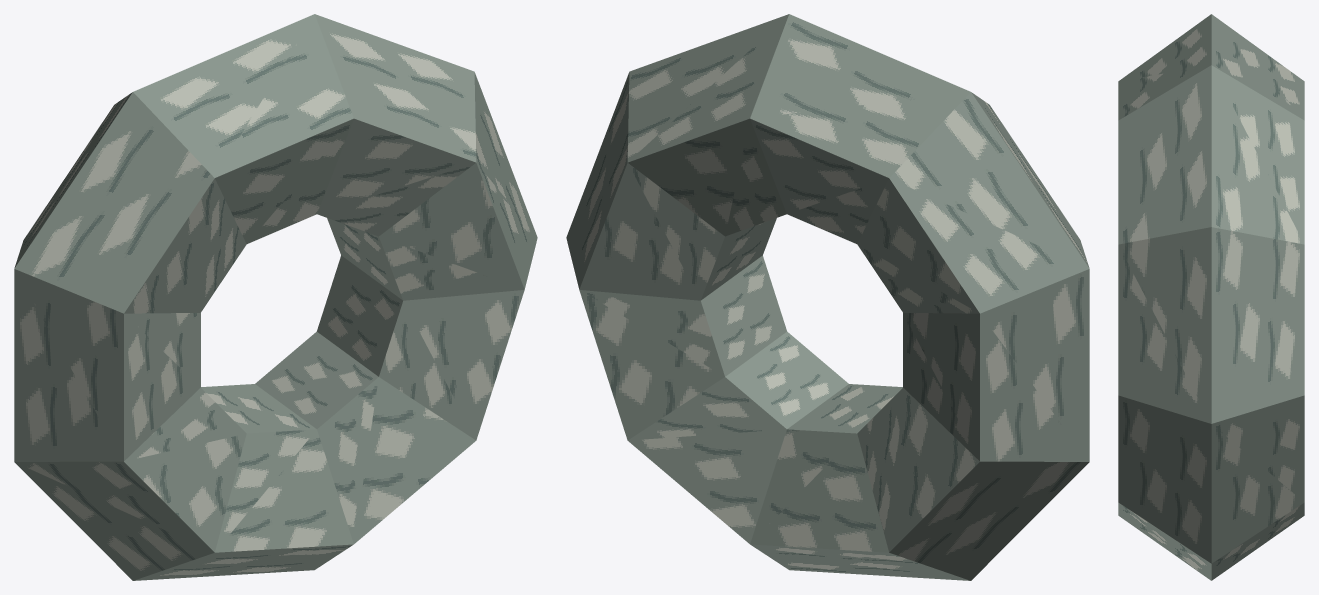
Rendered from pedra-furada-v01.gltf.
3 views of the same model, side by side, from view 1: azimuth 30°, elevation 25°; view 2: azimuth 150°, elevation 25°; view 3: azimuth 270°, elevation 25° (orthographic). The views are drawn at different scales.
Visible parts, largest first — view 1: forma; view 2: forma; view 3: forma.
Boxes of the visible parts, box(x1,y1,x2,y2) form: forma: box(14, 14, 537, 580); forma: box(566, 14, 1089, 580); forma: box(1118, 14, 1304, 580).
Bounding box in the file's own units: 1.14 × 1.16 × 0.3804.
1 material, 1 textured.
